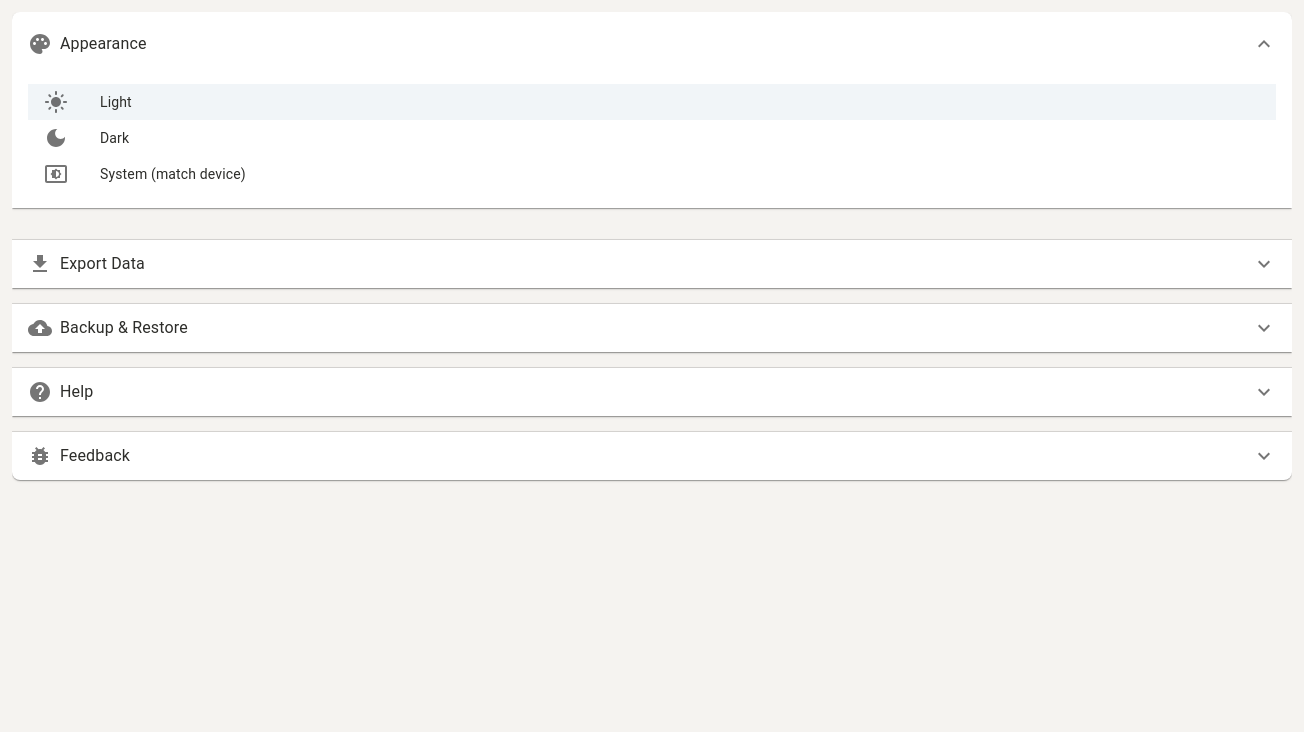
Scenario: Settings › shows export button when Export Data is expanded
Click the button "Export Data". click: coordinates (102, 264)
box: left=12, top=240, right=1292, bottom=288
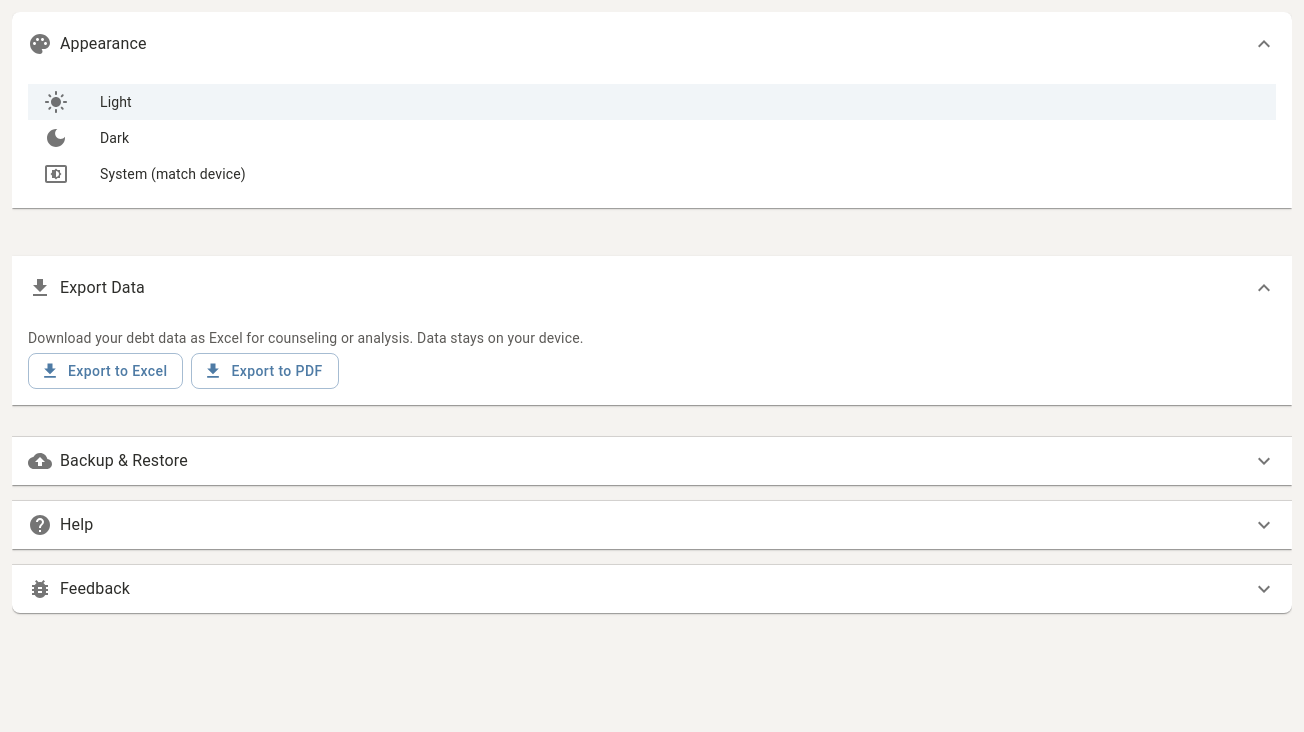
Now the button with test id "export-excel-button" is shown, box left=28, top=353, right=183, bottom=390
